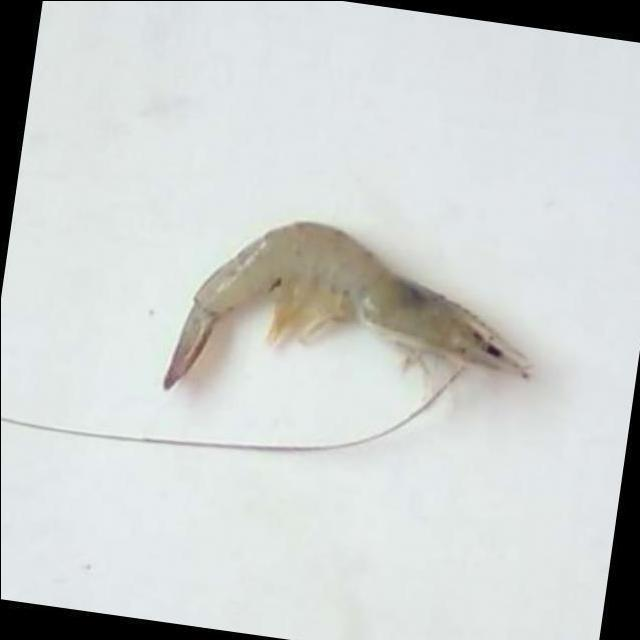shrimp: (162, 221, 532, 388)
